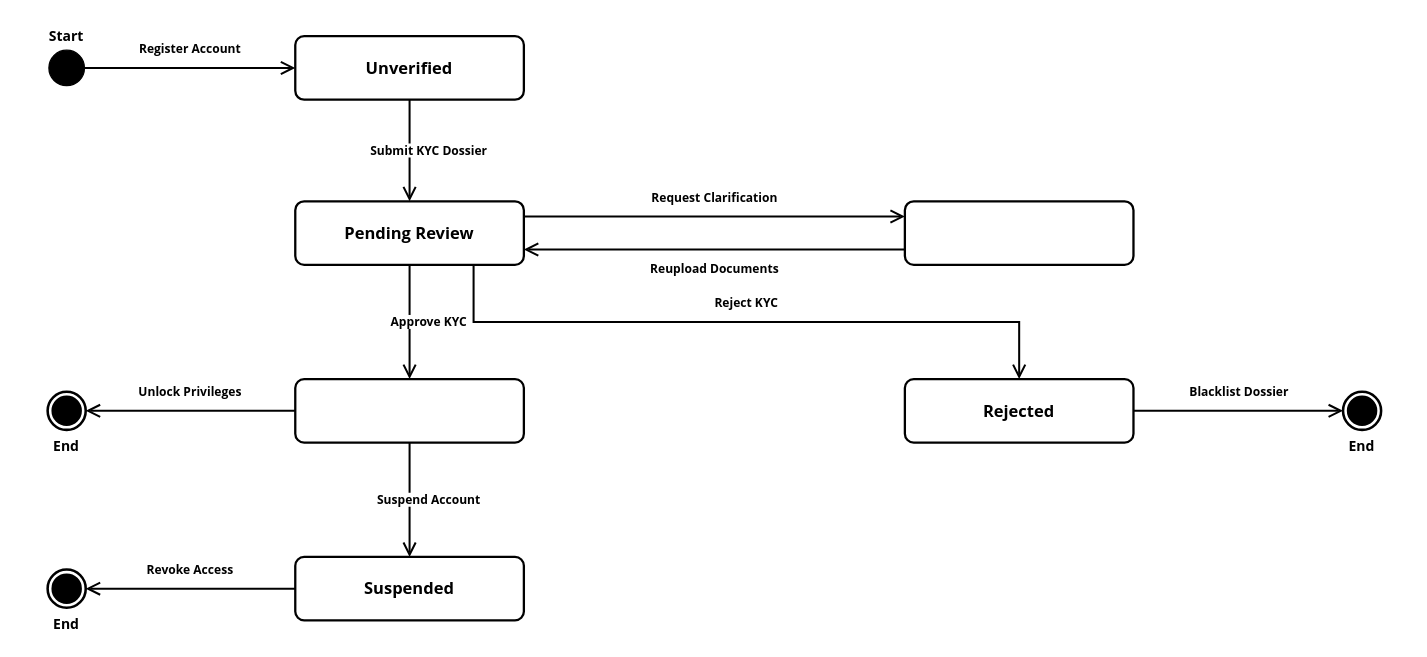
The diagram is 1427 pixels wide and 657 high, and some of its shapes have lost their labels. Each missing label, with the box of its shape:
Needs Info: (903, 200, 1134, 265)
Verified: (293, 377, 524, 443)
